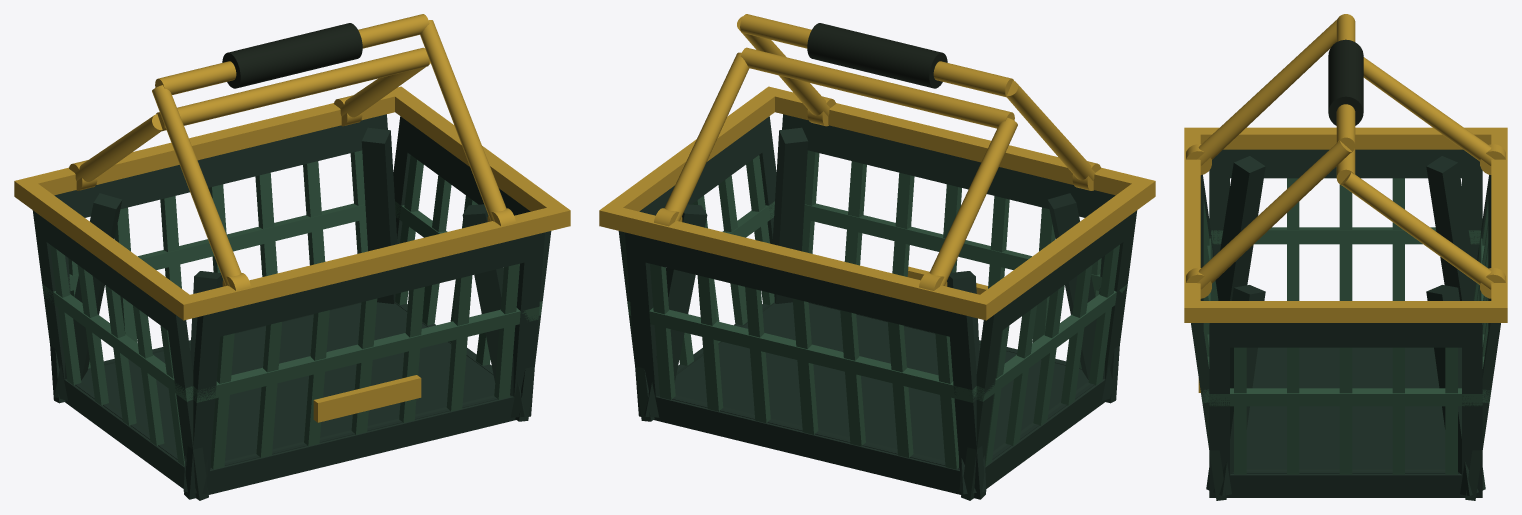
Rendered from shopping-basket.glb.
The picture shows the model from 3 angles, left to right: view 1: azimuth 30°, elevation 25°; view 2: azimuth 150°, elevation 25°; view 3: azimuth 270°, elevation 25°; orthographic projection. The views are drawn at different scales.
Parts seen in each view (by area): view 1: floor_pan, rim_front, front_rail_top, front_rail_bottom, back_rail_top, rim_back, front_rail_mid, hback_grip_bar, hfront_grip_sleeve, rim_left, hfront_arm_a, back_rail_mid (+40 smaller); view 2: floor_pan, rim_back, back_rail_top, back_rail_bottom, front_rail_top, rim_front, back_rail_mid, hback_grip_bar, hfront_grip_sleeve, rim_left, front_rail_mid, corner_fr_post (+40 smaller); view 3: floor_pan, right_rail_top, rim_right, right_rail_bottom, left_rail_top, rim_left, right_rail_mid, corner_bl_post, hfront_arm_b, corner_fl_post, hfront_arm_a, hback_arm_b (+26 smaller).
Boxes of the visible parts, <box> form: floor_pan: <box>75,302,510,469</box>; rim_front: <box>175,204,570,320</box>; front_rail_top: <box>196,232,544,341</box>; front_rail_bottom: <box>185,392,532,499</box>; back_rail_top: <box>54,115,387,217</box>; rim_back: <box>14,86,409,202</box>; front_rail_mid: <box>193,307,539,402</box>; hback_grip_bar: <box>156,47,429,131</box>; hfront_grip_sleeve: <box>222,23,362,88</box>; rim_left: <box>23,183,189,313</box>; hfront_arm_a: <box>152,85,241,286</box>; back_rail_mid: <box>68,203,366,290</box>; floor_pan: <box>659,302,1094,469</box>; rim_back: <box>599,204,994,320</box>; back_rail_top: <box>625,232,973,340</box>; back_rail_bottom: <box>637,392,985,499</box>; front_rail_top: <box>782,114,1115,217</box>; rim_front: <box>760,86,1155,202</box>; back_rail_mid: <box>649,308,976,402</box>; hback_grip_bar: <box>740,47,1014,128</box>; hfront_grip_sleeve: <box>807,23,947,88</box>; rim_left: <box>980,183,1146,313</box>; front_rail_mid: <box>803,203,1101,290</box>; corner_fr_post: <box>772,127,808,303</box>; floor_pan: <box>1231,347,1460,473</box>; right_rail_top: <box>1209,323,1482,347</box>; rim_right: <box>1200,301,1491,322</box>; right_rail_bottom: <box>1209,469,1482,497</box>; left_rail_top: <box>1209,149,1482,178</box>; rim_left: <box>1200,127,1491,149</box>; right_rail_mid: <box>1209,388,1482,406</box>; corner_bl_post: <box>1426,156,1475,300</box>; hfront_arm_b: <box>1197,141,1351,289</box>; corner_fl_post: <box>1215,156,1265,300</box>; hfront_arm_a: <box>1197,19,1337,165</box>; hback_arm_b: <box>1341,172,1493,289</box>.
Size of the model in its own units: 0.4123 by 0.376 by 0.3123.
